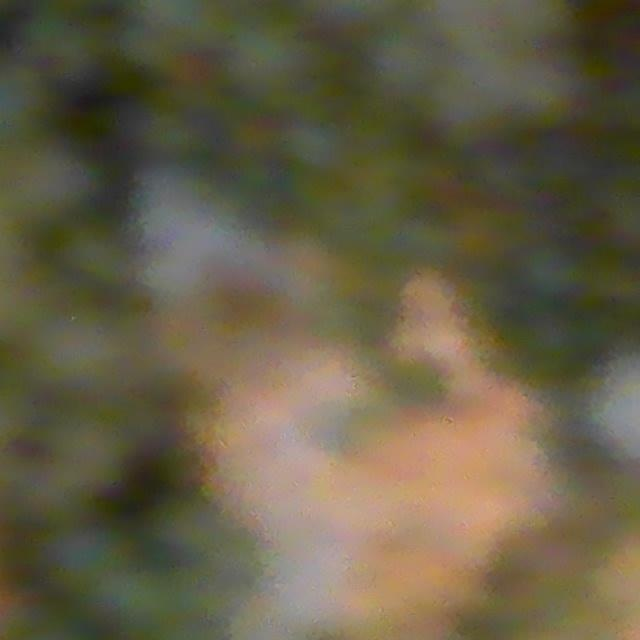SeaGrape: (220, 15, 314, 107)
